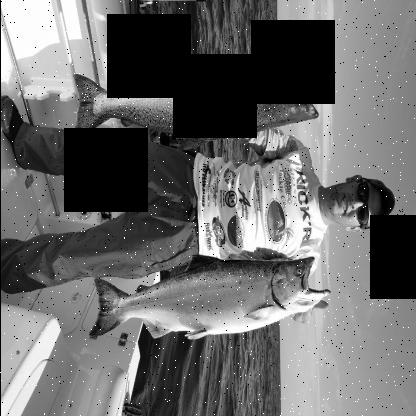fish: (68, 52, 331, 152), (88, 254, 332, 342)
